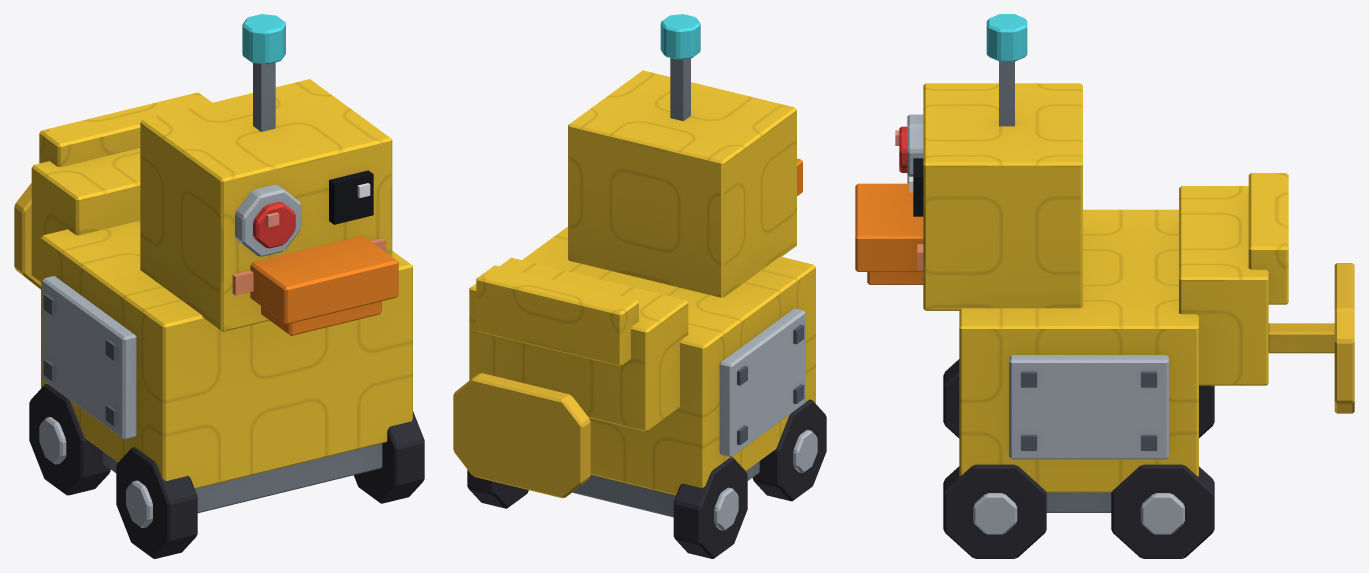
File: RoboDuck.fbx
The picture shows the model from 3 angles, left to right: view 1: azimuth 30°, elevation 25°; view 2: azimuth 150°, elevation 25°; view 3: azimuth 270°, elevation 25°; orthographic projection. The views are drawn at different scales.
Visible parts, largest first — view 1: Art_RoboDuck; view 2: Art_RoboDuck; view 3: Art_RoboDuck.
Boxes of the visible parts, x1,y1,x2,y2 form: Art_RoboDuck: [14, 14, 424, 558]; Art_RoboDuck: [453, 14, 826, 558]; Art_RoboDuck: [855, 14, 1354, 558].
Bounding box in the file's own units: 1.6 × 2.64 × 2.5.
